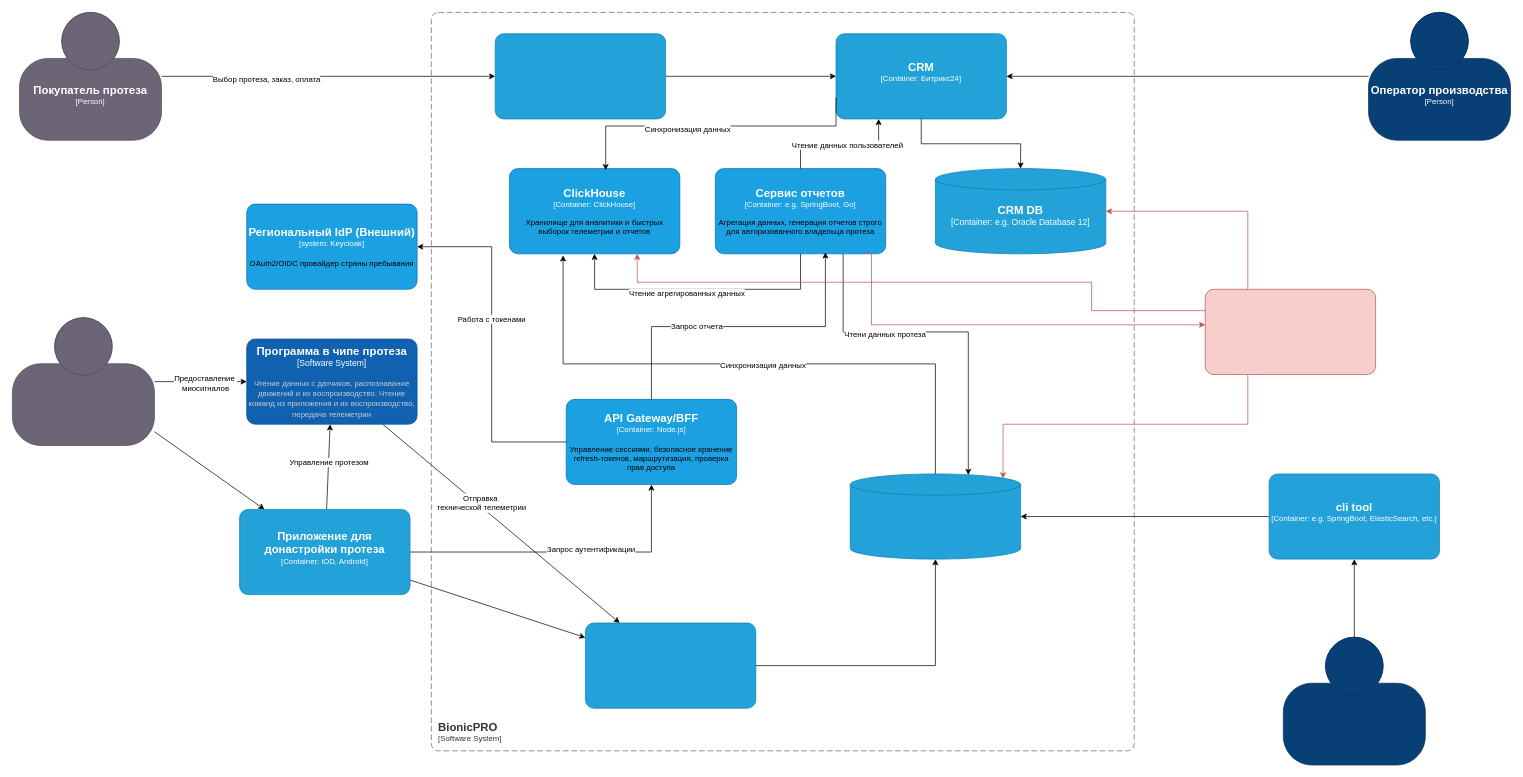
Image size: 1523x777. Some labels were removed from this diagram. The centre of each missing label's shape, as x and y in pixels:
"API [Container: e.g. SpringBoot, ElasticSearch, etc.]" belongs at pixel 670 665.
"ETL Pipeline [system: Apache Airflow]" belongs at pixel 1290 332.
"ML-инженер [Person]" belongs at pixel 1354 701.
"База данных [Container: PostgreSQL]" belongs at pixel 935 516.
"Интернет-магазин [Container: Битрикс24]" belongs at pixel 580 76.
"Пилот протеза [Person] С этого человека считываются данные" belongs at pixel 83 381.
